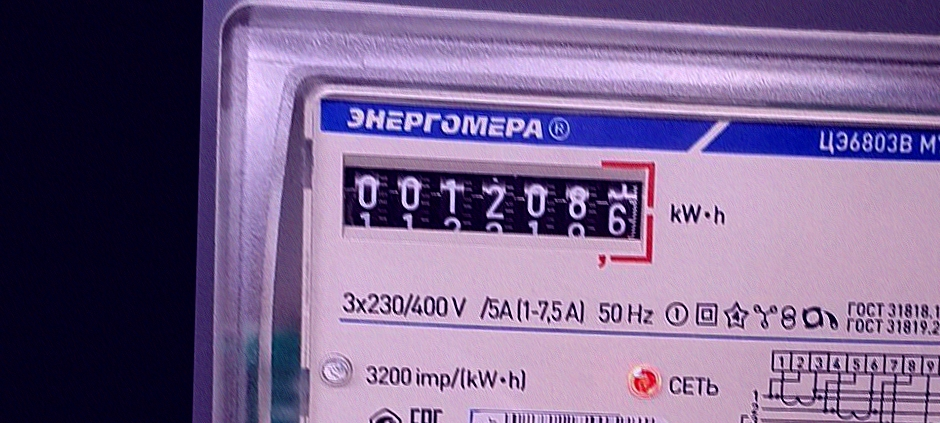0: (353, 170, 380, 209), (397, 173, 422, 210), (522, 180, 547, 217)
1: (439, 175, 461, 214)
2: (481, 181, 508, 220)
6: (604, 199, 628, 236)
8: (563, 182, 589, 220)
screen: (332, 145, 664, 268)
